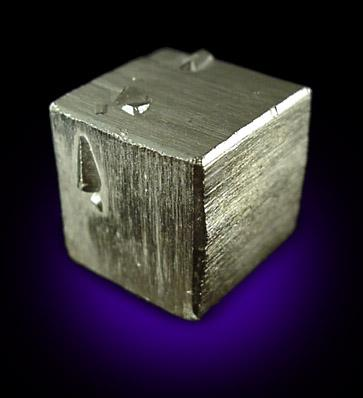pyrite: (49, 47, 313, 323)
